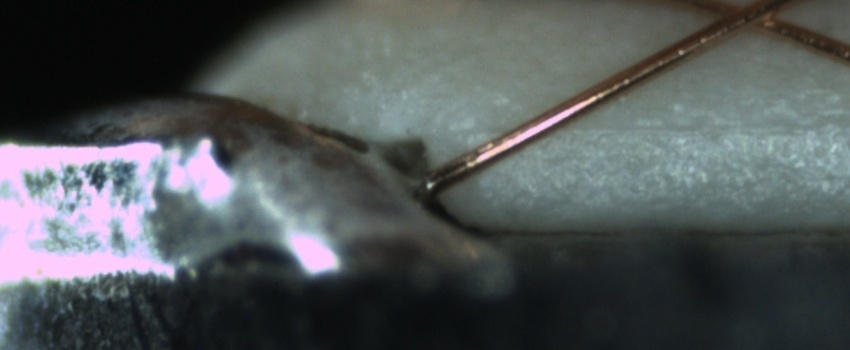CL: (703, 0, 791, 34)
DL: (471, 96, 848, 164)
